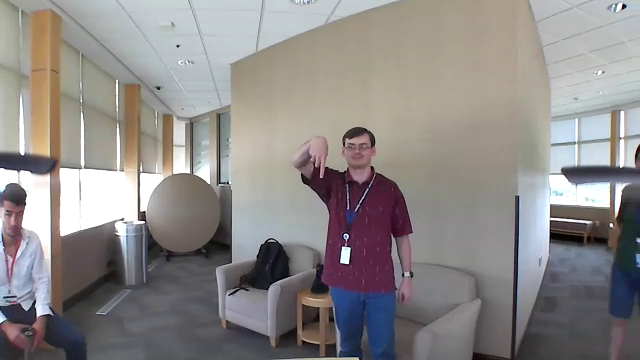down: (302, 131, 335, 187)
